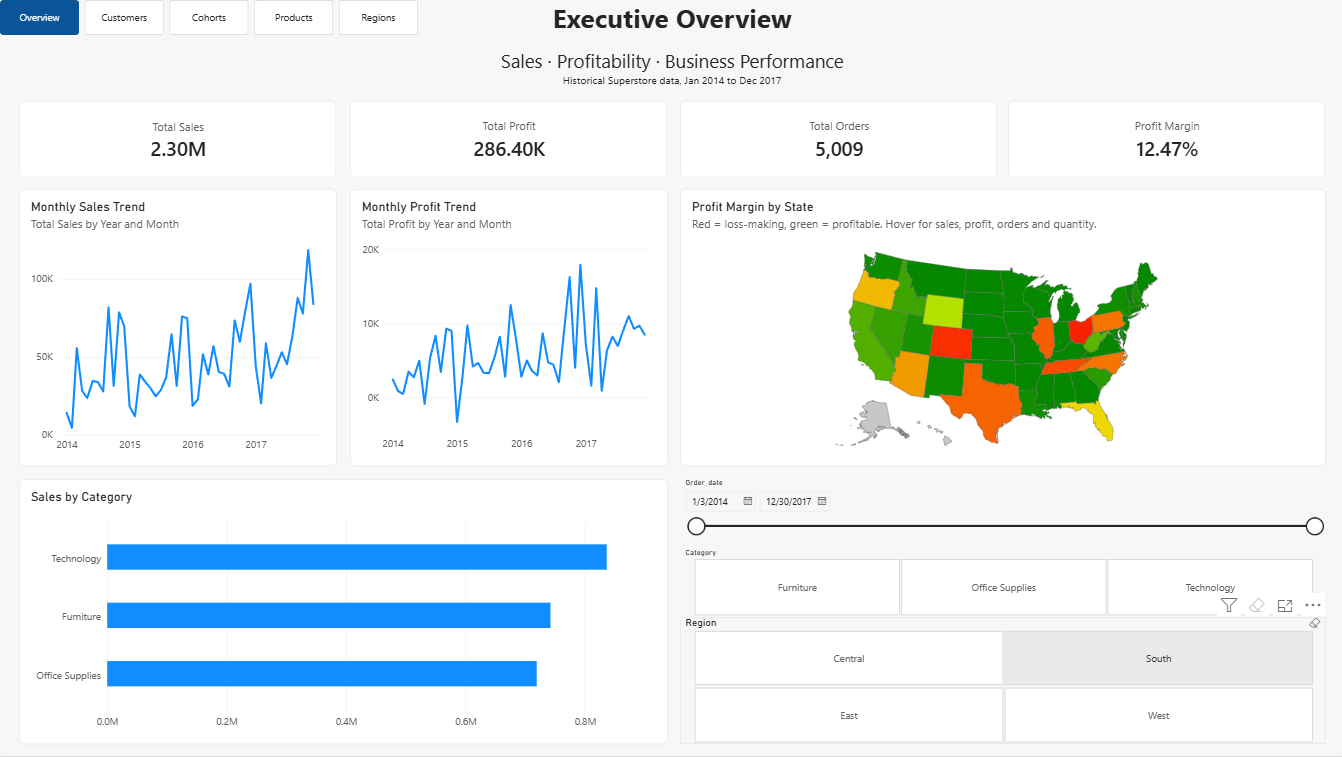

The dashboard page shown, as its layout file describes it:
{"tool":"powerbi","page":{"name":"Overview","canvas":[1920,1080],"ordinal":0},"visuals":[{"type":"cardVisual","fields":{"Data":["superstore.total sales"]},"box":[26.6,143.6,453.5,109.1],"z":0},{"type":"cardVisual","fields":{"Data":["superstore.total profit"]},"box":[500.1,143.6,453.5,109.1],"z":1000},{"type":"cardVisual","fields":{"Data":["superstore.profit margin"]},"box":[1440.4,143.6,453.5,109.1],"z":2000},{"type":"lineChart","title":"Monthly Sales Trend","fields":{"Category":["superstore.order_date.Variation.Date Hierarchy.Year","superstore.order_date.Variation.Date Hierarchy.Month"],"Y":["superstore.total sales"]},"box":[26.6,270,453.5,396.4],"z":3000},{"type":"clusteredBarChart","title":"Sales by Category","fields":{"Category":["superstore.category"],"Y":["superstore.total sales"]},"box":[26.6,683.6,927,379.1],"z":3000},{"type":"cardVisual","fields":{"Data":["superstore.total orders"]},"box":[970.9,143.6,453.5,109.1],"z":4000},{"type":"textbox","box":[0,0,1920.6,143.6],"z":5000},{"type":"slicer","fields":{"Values":["superstore.order_date"]},"box":[970.9,682.3,923.1,101.1],"z":5000},{"type":"slicer","fields":{"Values":["superstore.category"]},"box":[970.9,783.4,923.1,98.4],"z":6000},{"type":"pageNavigator","box":[0,0,600,50],"z":7000},{"type":"slicer","fields":{"Values":["superstore.region"]},"box":[970.9,881.8,923.1,180.9],"z":7000},{"type":"shapeMap","title":"Profit Margin by State","fields":{"Category":["superstore.State"],"Value":["superstore.Profit Margin"]},"box":[970.9,270,923.1,396.4],"z":7001},{"type":"lineChart","title":"Monthly Profit Trend","fields":{"Category":["superstore.Order_date.Variation.Date Hierarchy.Year","superstore.Order_date.Variation.Date Hierarchy.Month"],"Y":["superstore.Total Profit"]},"box":[500,270,454,396],"z":7002}]}

Visuals, with their boxes in screenshot pixels (x1, y1, x2, y2), scaled from the page's 1920x1080 canvas onto the 1342x757 screenshot:
cardVisual - superstore.total sales: pyautogui.locateOnScreen(19, 101, 336, 177)
cardVisual - superstore.total profit: pyautogui.locateOnScreen(350, 101, 667, 177)
cardVisual - superstore.profit margin: pyautogui.locateOnScreen(1007, 101, 1324, 177)
"Monthly Sales Trend" lineChart: pyautogui.locateOnScreen(19, 189, 336, 467)
"Sales by Category" clusteredBarChart: pyautogui.locateOnScreen(19, 479, 667, 745)
cardVisual - superstore.total orders: pyautogui.locateOnScreen(679, 101, 996, 177)
textbox: pyautogui.locateOnScreen(0, 0, 1341, 101)
slicer - superstore.order_date: pyautogui.locateOnScreen(679, 478, 1324, 549)
slicer - superstore.category: pyautogui.locateOnScreen(679, 549, 1324, 618)
pageNavigator: pyautogui.locateOnScreen(0, 0, 419, 35)
slicer - superstore.region: pyautogui.locateOnScreen(679, 618, 1324, 745)
"Profit Margin by State" shapeMap: pyautogui.locateOnScreen(679, 189, 1324, 467)
"Monthly Profit Trend" lineChart: pyautogui.locateOnScreen(349, 189, 667, 467)
